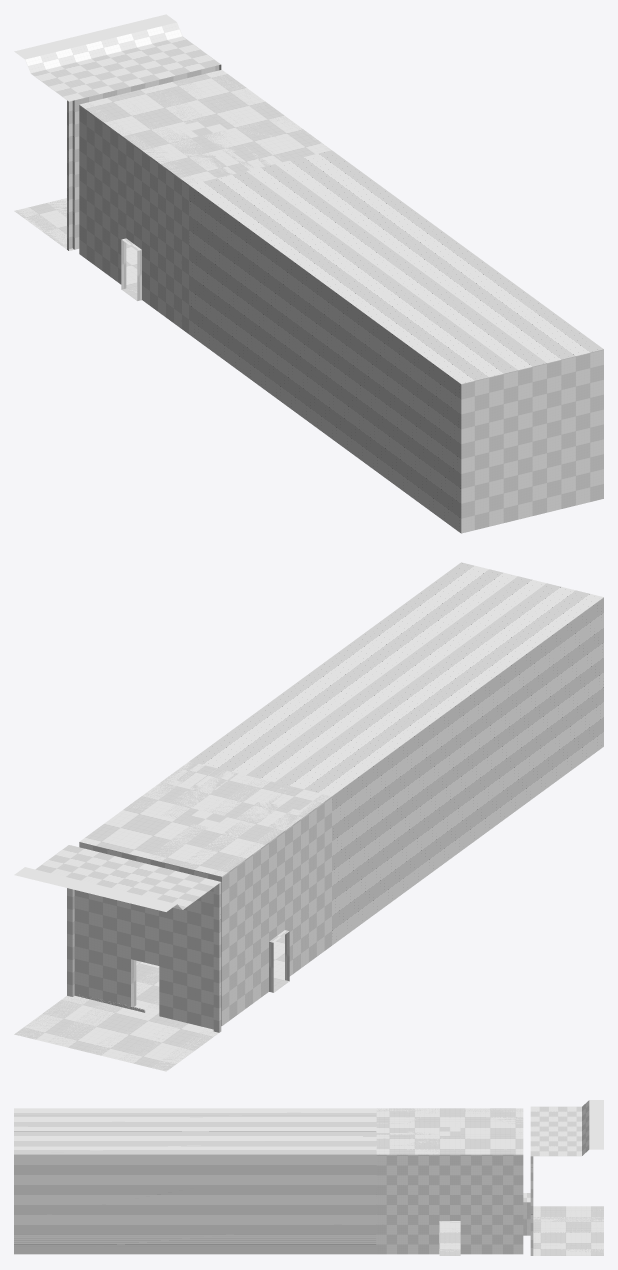
File: SCPE_DemoRooms.fbx
3 renders of one model, top to bottom at view 1: azimuth 30°, elevation 25°; view 2: azimuth 150°, elevation 25°; view 3: azimuth 270°, elevation 25°, orthographic. The views are drawn at different scales.
Visible parts, largest first — view 1: DemoRoomRegularFog, DemoRoomRegular, DemoRoomSunshafts; view 2: DemoRoomRegularFog, DemoRoomRegular, DemoRoomSunshafts; view 3: DemoRoomRegularFog, DemoRoomRegular, DemoRoomSunshafts.
Boxes of the visible parts, x1=… form: DemoRoomRegularFog: x1=15, y1=26, x2=603, y2=533; DemoRoomRegular: x1=14, y1=14, x2=331, y2=333; DemoRoomSunshafts: x1=106, y1=14, x2=330, y2=180; DemoRoomRegularFog: x1=24, y1=562, x2=603, y2=1071; DemoRoomRegular: x1=14, y1=761, x2=331, y2=1071; DemoRoomSunshafts: x1=16, y1=761, x2=329, y2=1046; DemoRoomRegularFog: x1=14, y1=1100, x2=603, y2=1254; DemoRoomRegular: x1=376, y1=1100, x2=603, y2=1255; DemoRoomSunshafts: x1=376, y1=1108, x2=603, y2=1155.
Size of the model in its own units: 1600 by 1632 by 8049.
